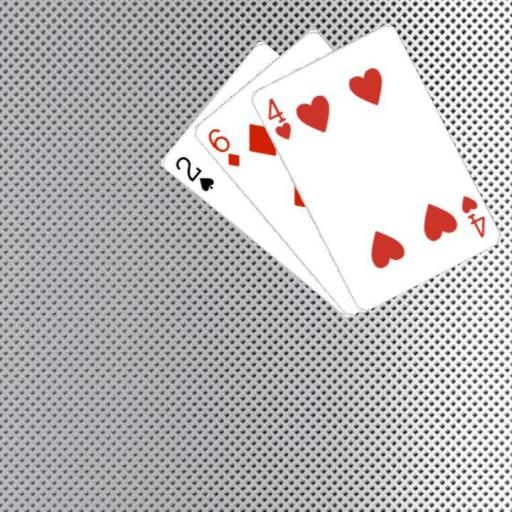2S: (172, 153, 216, 193)
4H: (458, 192, 487, 240), (264, 95, 292, 142)
6D: (204, 125, 242, 169)
